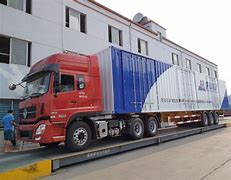bigtruck: (17, 36, 229, 148)
